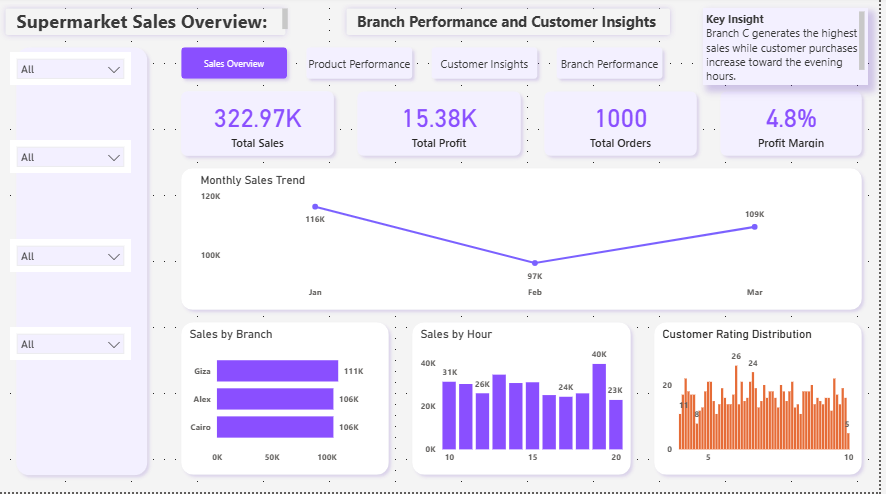

What the dashboard file says about the page in this screenshot:
{"tool":"powerbi","page":{"name":" Sales Overview","canvas":[1280,720],"ordinal":0},"visuals":[{"type":"shape","box":[496.8,8.6,486.7,54.7],"z":0},{"type":"shape","box":[944,464,320,240],"z":1000},{"type":"shape","box":[592,464,336,240],"z":2000},{"type":"shape","box":[1.4,8.6,423.4,54.7],"z":3000},{"type":"shape","box":[15.8,63.4,208.8,640.8],"z":4000},{"type":"shape","box":[256,128,240,112],"z":5000},{"type":"textbox","box":[0,11.5,424.8,43.2],"z":6000},{"type":"shape","box":[512,128,256,112],"z":7000},{"type":"shape","box":[784,128,240,112],"z":8000},{"type":"shape","box":[1040,128,224,112],"z":9000},{"type":"shape","box":[256,240,1008,224],"z":10000},{"type":"shape","box":[256,464,320,240],"z":11000},{"type":"card","fields":{"Values":["Measure Tables.Total Sales"]},"box":[272,144,208,80],"z":12000},{"type":"card","fields":{"Values":["Measure Tables.Total Profit"]},"box":[528,144,224,80],"z":13000},{"type":"card","fields":{"Values":["Measure Tables.Total Orders"]},"box":[800,144,208,80],"z":14000},{"type":"card","fields":{"Values":["Measure Tables.Profit Margin"]},"box":[1056,144,192,80],"z":15000},{"type":"lineChart","title":"Monthly Sales Trend","fields":{"Y":["Measure Tables.Total Sales"],"Category":["Supermarket_Sales.Month"]},"box":[288,256,944,192],"z":16000},{"type":"clusteredBarChart","title":"Sales by Branch","fields":{"Category":["Supermarket_Sales.Branch"],"Y":["Measure Tables.Total Sales"]},"box":[272,480,288,208],"z":17000},{"type":"slicer","fields":{"Values":["Supermarket_Sales.City"]},"box":[16,208,176,48],"z":18000},{"type":"slicer","fields":{"Values":["Supermarket_Sales.Payment"]},"box":[16,352,176,48],"z":19000},{"type":"slicer","fields":{"Values":["Supermarket_Sales.Gender"]},"box":[16,480,176,48],"z":20000},{"type":"slicer","fields":{"Values":["Supermarket_Sales.Branch"]},"box":[16,80,176,48],"z":21000},{"type":"clusteredColumnChart","title":"Sales by Hour","fields":{"Category":["Supermarket_Sales.Hour"],"Y":["Measure Tables.Total Sales"]},"box":[608,480,304,208],"z":22000},{"type":"columnChart","title":"Customer Rating Distribution","fields":{"Category":["Supermarket_Sales.Rating"],"Y":["Measure Tables.Total Orders"]},"box":[960,480,288,208],"z":23000},{"type":"textbox","box":[502.6,15.8,469.4,38.9],"z":24000},{"type":"pageNavigator","box":[256,64,720,64],"z":25000},{"type":"cardVisual","box":[1024,16,240,112],"z":26000},{"type":"textbox","box":[1024,16,240,112],"z":27000}]}

Visuals, with their boxes in screenshot pixels (x1, y1, x2, y2), scaled from the page's 1280x720 canvas onto the 886x494 screenshot:
shape: 344,6,681,43
shape: 653,318,875,483
shape: 410,318,642,483
shape: 1,6,294,43
shape: 11,43,155,483
shape: 177,88,343,165
textbox: 0,8,294,38
shape: 354,88,532,165
shape: 543,88,709,165
shape: 720,88,875,165
shape: 177,165,875,318
shape: 177,318,399,483
card - Measure Tables.Total Sales: 188,99,332,154
card - Measure Tables.Total Profit: 365,99,521,154
card - Measure Tables.Total Orders: 554,99,698,154
card - Measure Tables.Profit Margin: 731,99,864,154
"Monthly Sales Trend" lineChart: 199,176,853,307
"Sales by Branch" clusteredBarChart: 188,329,388,472
slicer - Supermarket_Sales.City: 11,143,133,176
slicer - Supermarket_Sales.Payment: 11,242,133,274
slicer - Supermarket_Sales.Gender: 11,329,133,362
slicer - Supermarket_Sales.Branch: 11,55,133,88
"Sales by Hour" clusteredColumnChart: 421,329,631,472
"Customer Rating Distribution" columnChart: 664,329,864,472
textbox: 348,11,673,38
pageNavigator: 177,44,676,88
cardVisual: 709,11,875,88
textbox: 709,11,875,88
